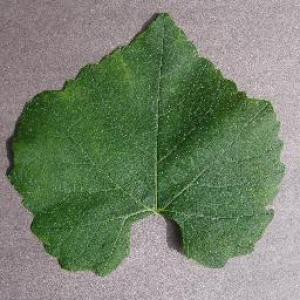Folha: (5, 10, 286, 278)
